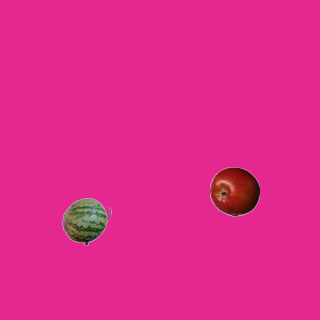Apple Braeburn: (209, 166, 259, 216)
Watermelon: (61, 196, 111, 246)
